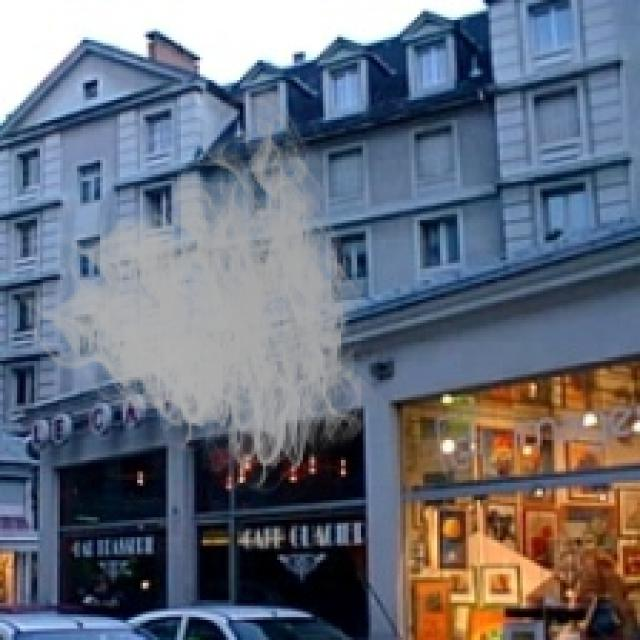smoke: (20, 80, 386, 506)
